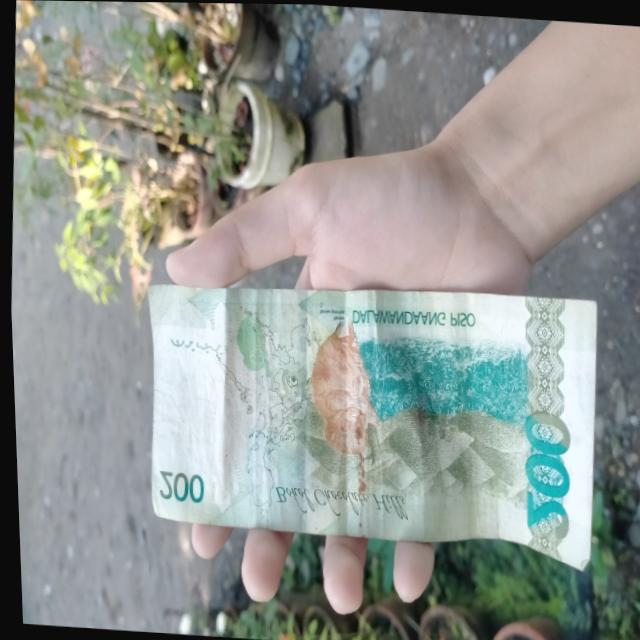see_through_mark: (160, 324, 228, 358)
value: (509, 404, 579, 549)
